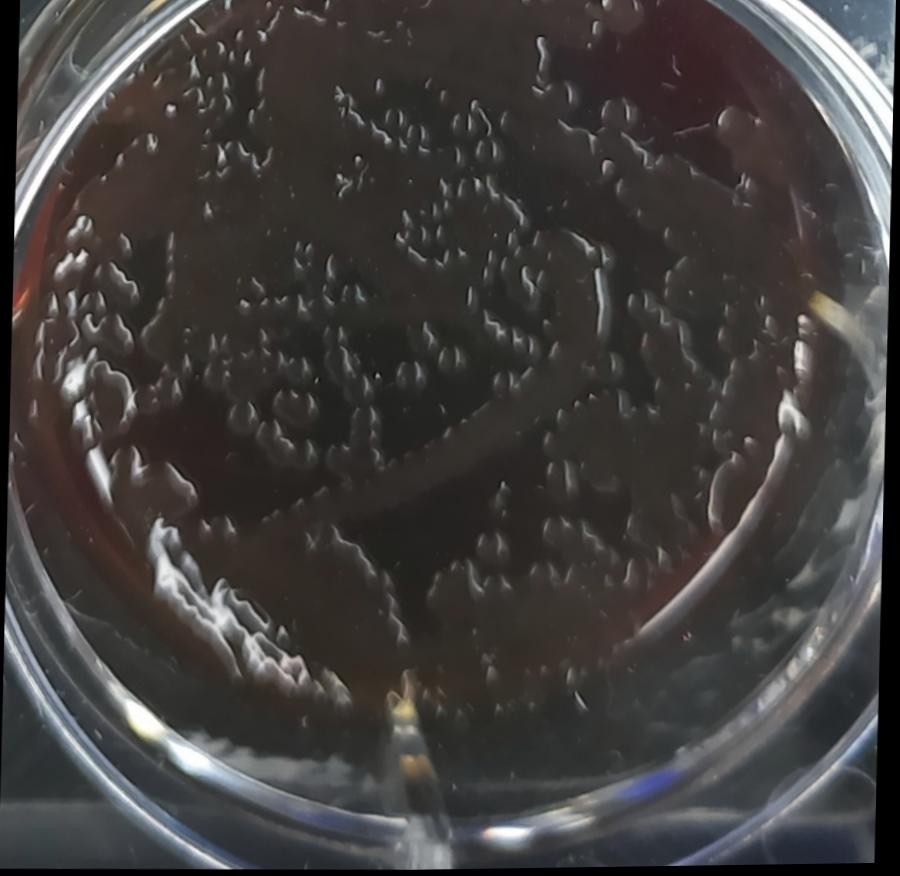vangil: (273, 342, 594, 536)
